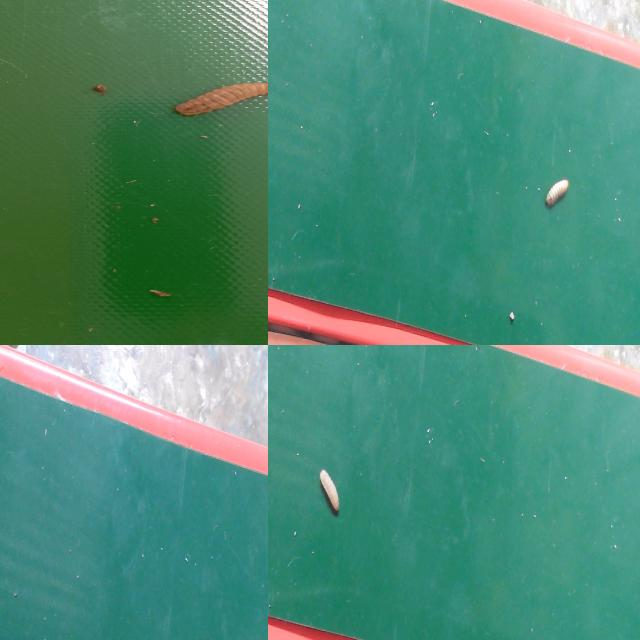Maggot: (173, 83, 268, 119), (318, 472, 341, 518), (546, 180, 572, 209)
